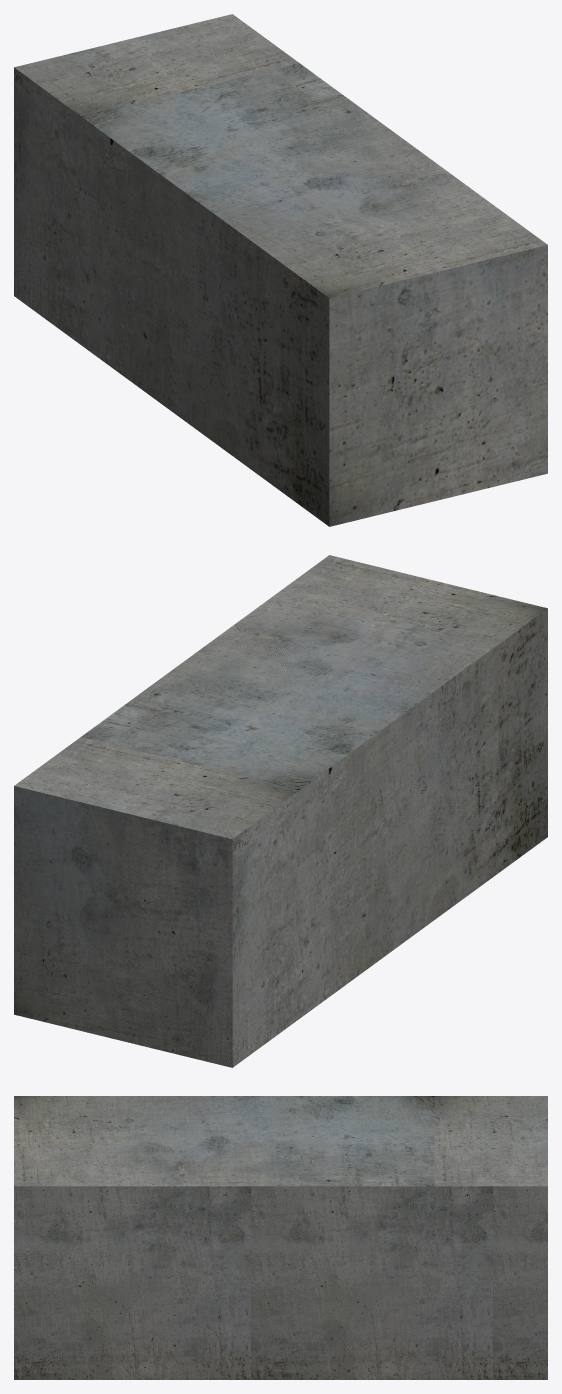
The model's file is border_long.dae.
3 views of the same model, one above another, from view 1: azimuth 30°, elevation 25°; view 2: azimuth 150°, elevation 25°; view 3: azimuth 270°, elevation 25° (orthographic). The views are drawn at different scales.
Visible parts, largest first — view 1: Component_7 (×2); view 2: Component_7; view 3: Component_7.
Part boxes in pixels (x1,y1,x2,y2): Component_7 (×2): (14, 14, 547, 526); Component_7: (14, 555, 547, 1067); Component_7: (14, 1096, 547, 1379).
Size of the model in its own units: 157 by 394 by 157.
